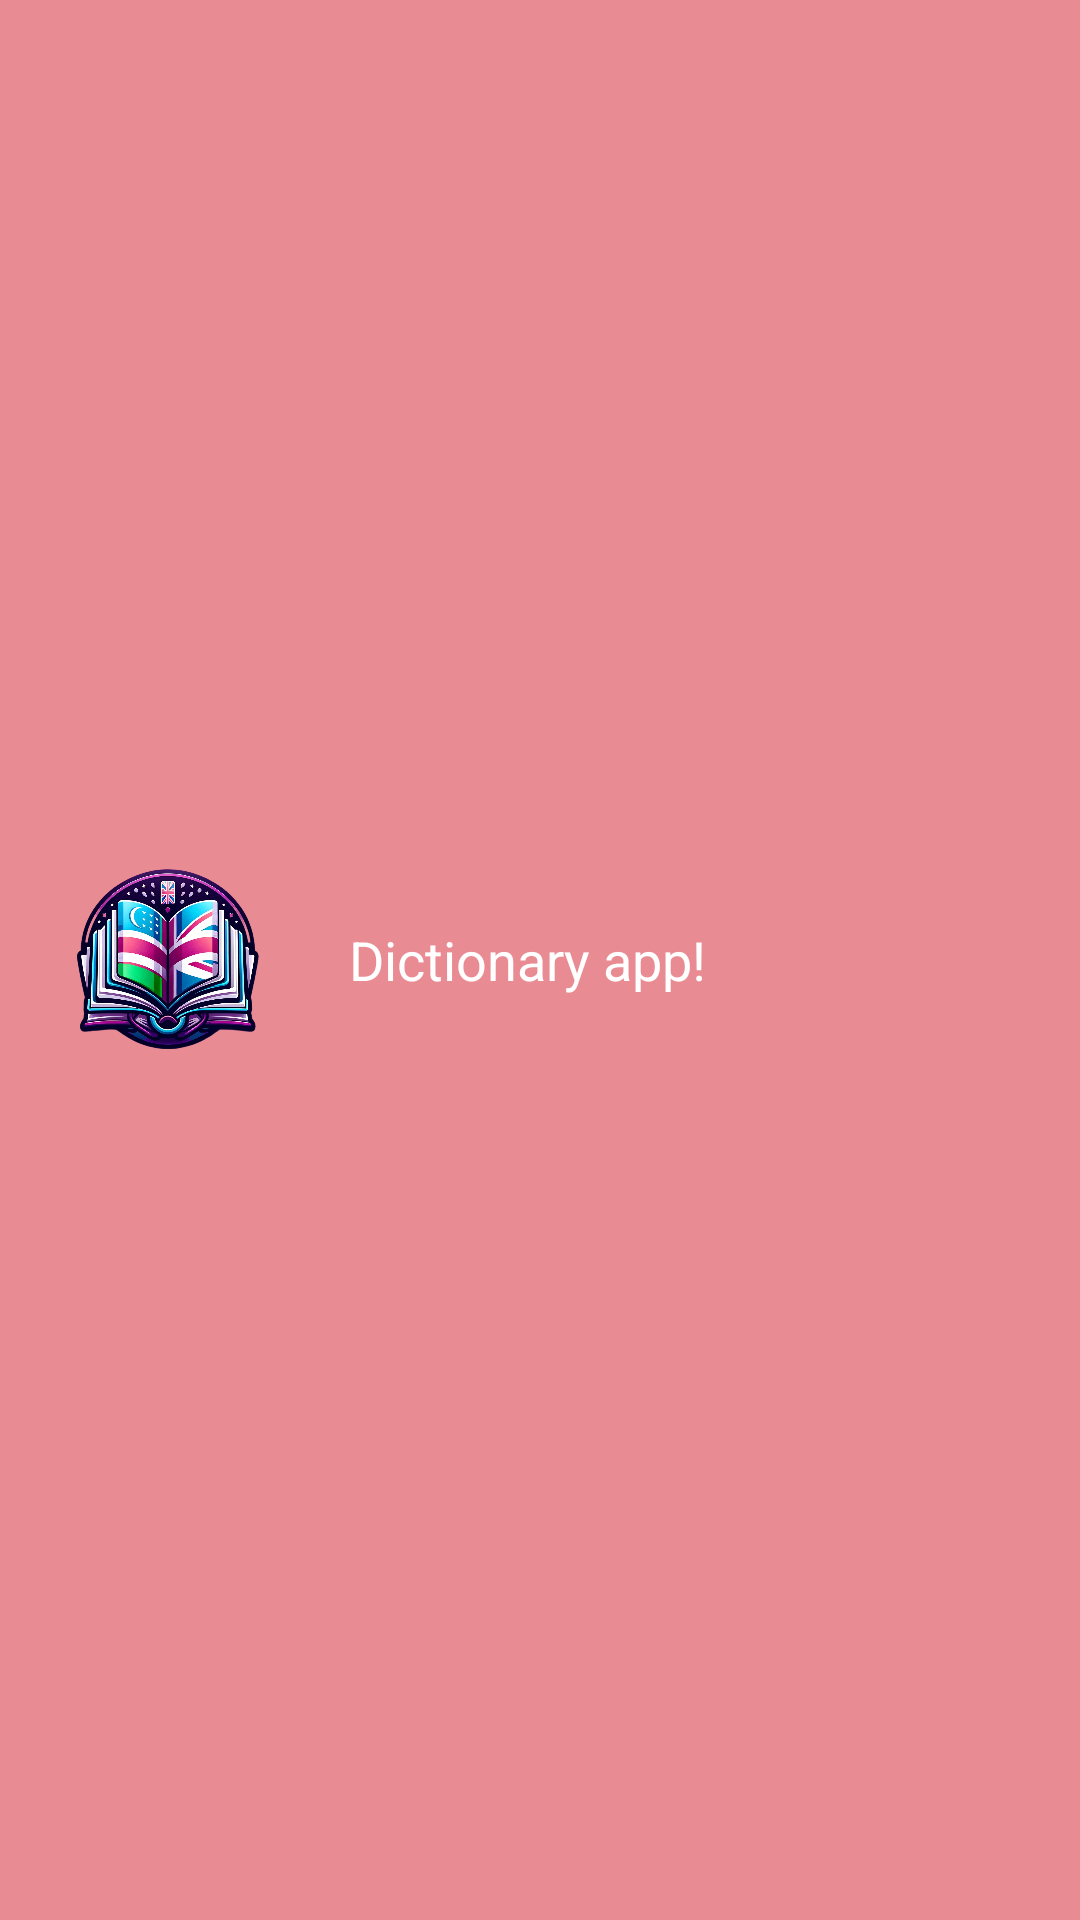

Where icons sit on this 1080w x 1920h app screen, as (x1, y1, x2, y2):
uzen dictionary: (77, 869, 259, 1049)
